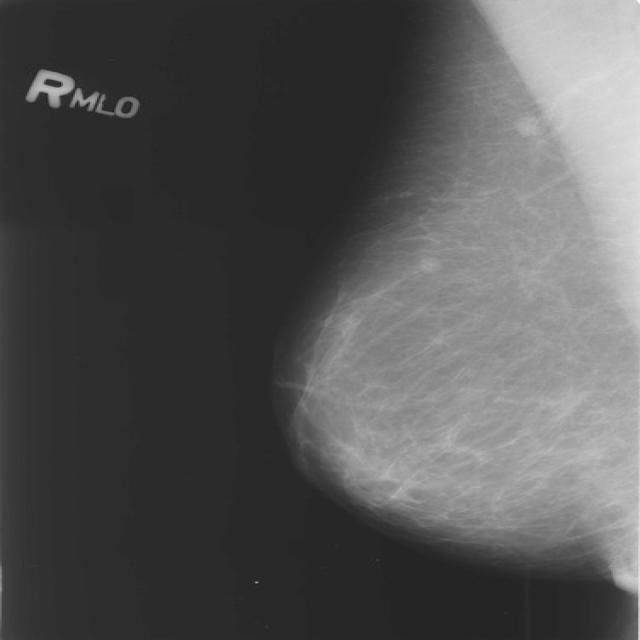tumour: (415, 255, 441, 273)
